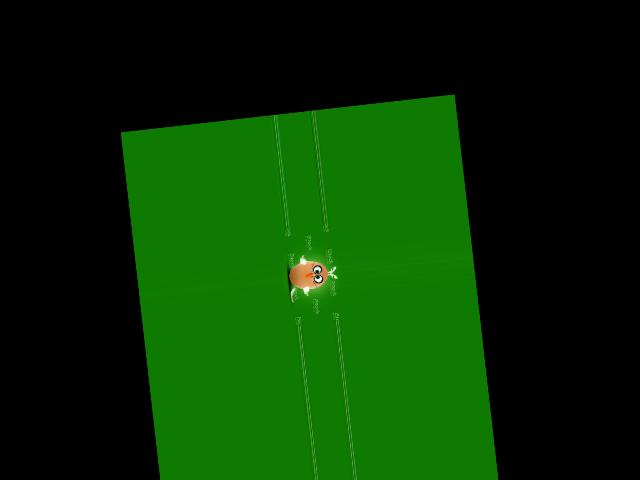egg: (287, 259, 329, 292)
